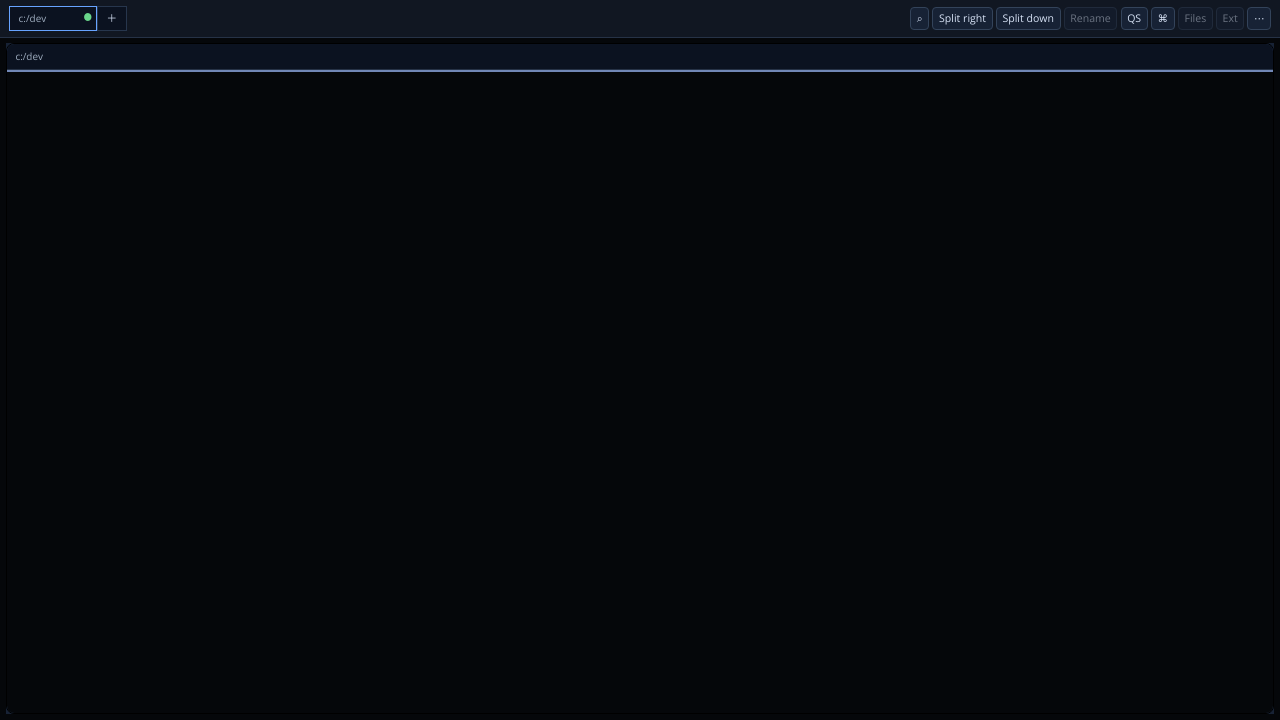
persistent terminal terminal-state notices › reports rejected final Stop as a real failure alert, not stopped success or a duplicate session
This screenshot has width=1280, height=720.
Click the button named "Open terminal actions menu" at (1259, 18), box x1=1248 y1=7 x2=1271 y2=30
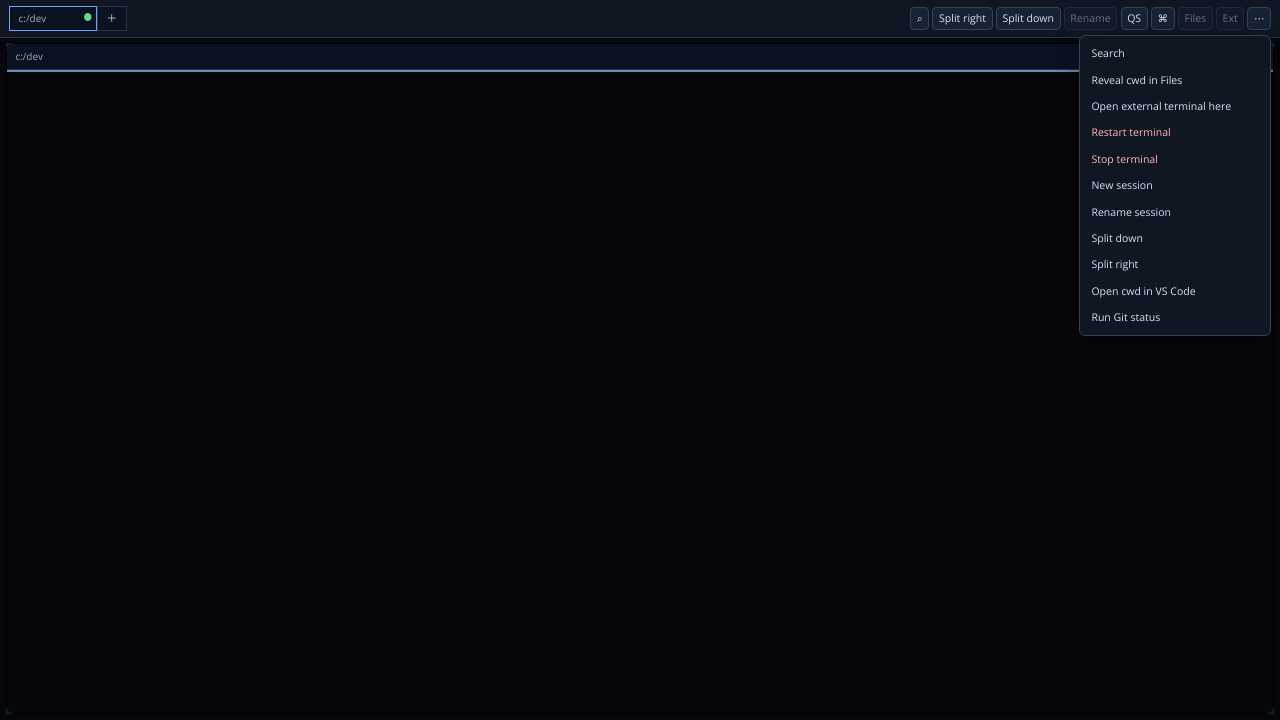
Click the menu item "Stop terminal" at (1175, 159), box x1=1086 y1=148 x2=1265 y2=171
Wait 1201 ms
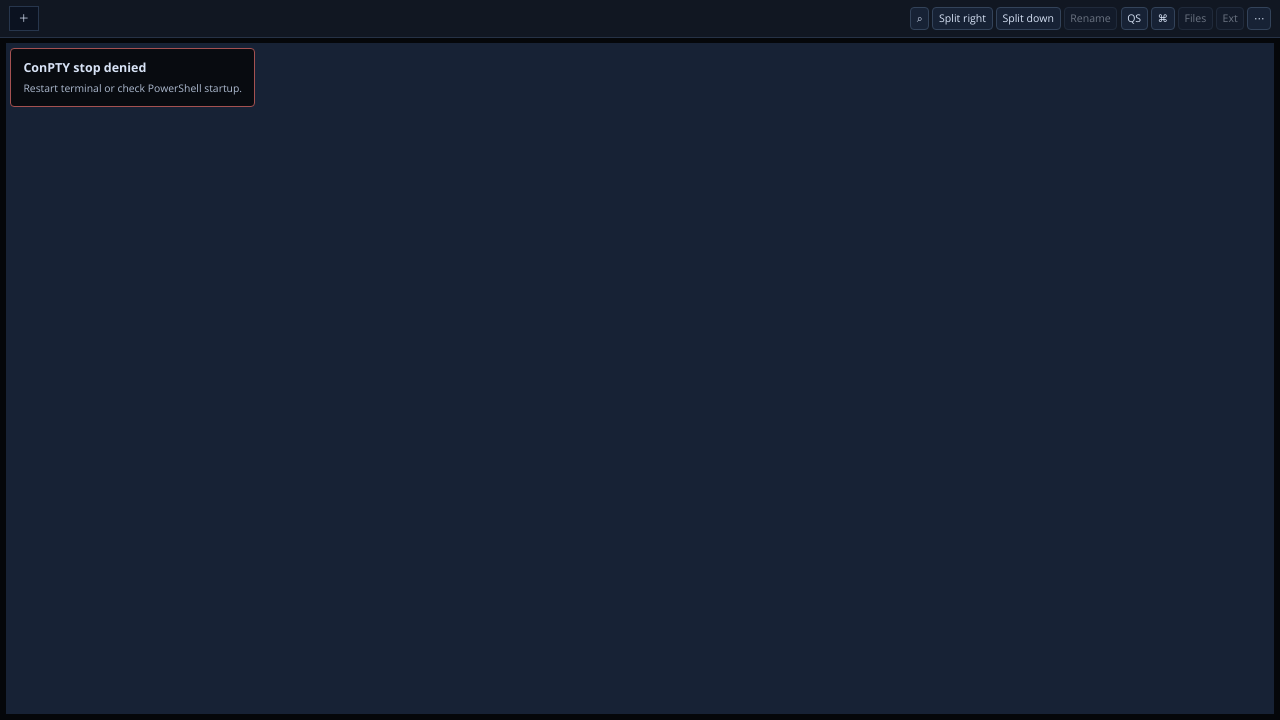
Now no tabs are shown
Now the number of messages is 1, box x1=10 y1=48 x2=255 y2=107
Now the message shows "ConPTY stop denied", box x1=23 y1=59 x2=146 y2=76
